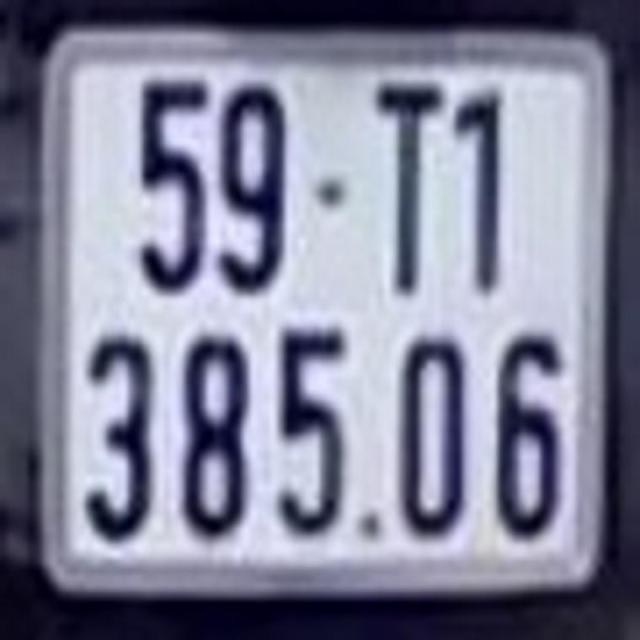0: (396, 326, 465, 540)
1: (453, 82, 503, 290)
3: (78, 331, 152, 535)
5: (134, 75, 204, 292), (272, 324, 344, 532)
6: (488, 326, 562, 546)
8: (175, 329, 253, 537)
9: (218, 78, 288, 292)
T: (374, 79, 442, 292)
